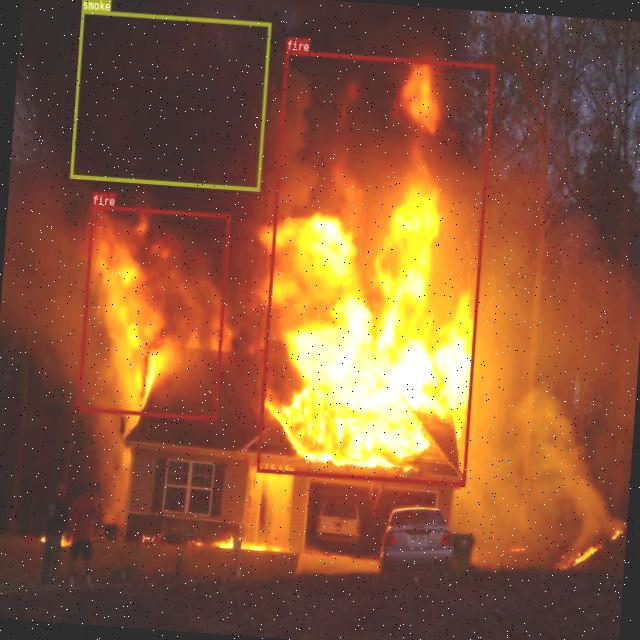fire: (256, 49, 494, 486), (76, 204, 229, 419)
smoke: (69, 9, 270, 190)
